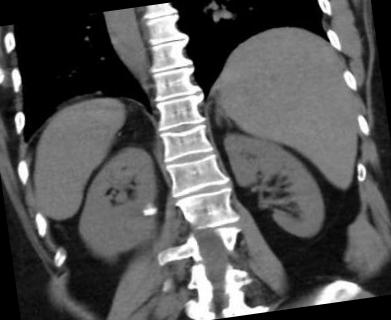Tas_Var: (147, 207, 153, 216), (141, 208, 148, 213), (153, 206, 157, 214), (142, 212, 148, 216)
